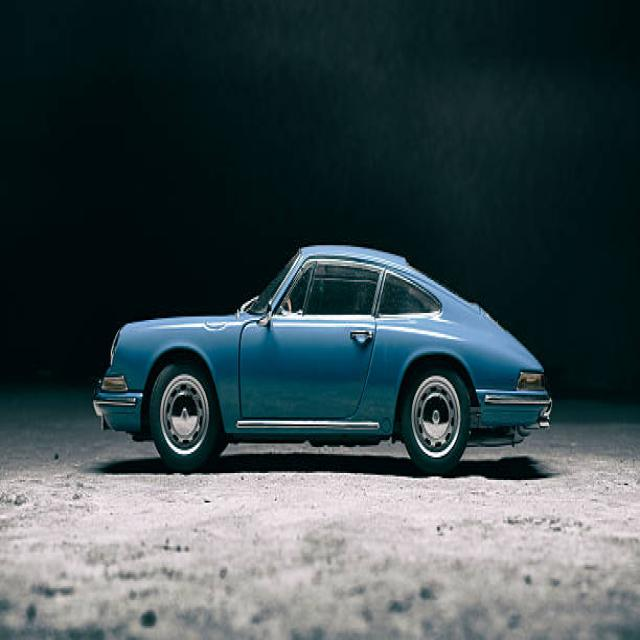Car: (91, 242, 552, 476)
